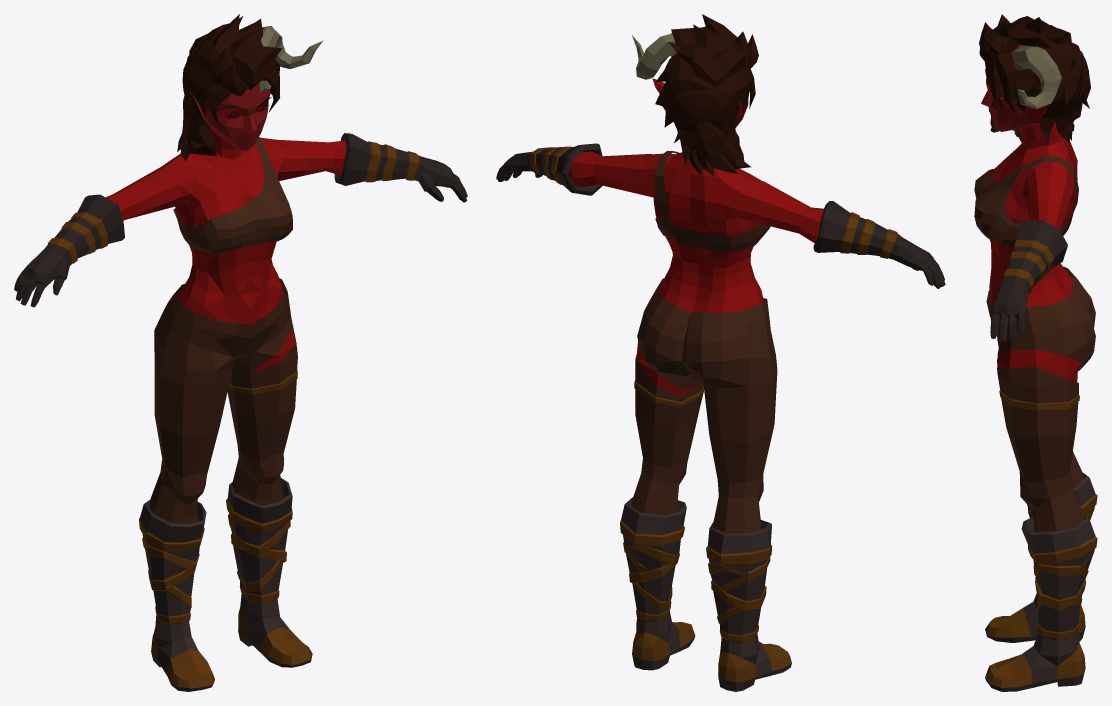
File: Character.glb
3 views of the same model, side by side, from view 1: azimuth 30°, elevation 25°; view 2: azimuth 150°, elevation 25°; view 3: azimuth 270°, elevation 25° (orthographic).
Visible parts, largest first — view 1: Panty.002, Boots, Body, Gloves, Hair.002, Shirt.001, arm.001, face.002, Horn.001; view 2: Panty.002, Boots, Body, Hair.002, Gloves, arm.001, Shirt.001, Horn.001; view 3: Panty.002, Boots, Body, Hair.002, Gloves, Shirt.001, Horn.001, arm.001, face.002.
Part boxes in pixels (bbox=[...]): Panty.002: bbox=[149, 278, 297, 523]; Boots: bbox=[139, 478, 312, 691]; Body: bbox=[161, 110, 295, 377]; Gloves: bbox=[14, 133, 467, 307]; Hair.002: bbox=[177, 14, 282, 161]; Shirt.001: bbox=[173, 137, 292, 254]; arm.001: bbox=[106, 140, 346, 220]; face.002: bbox=[190, 82, 270, 151]; Horn.001: bbox=[259, 26, 323, 92]; Panty.002: bbox=[631, 278, 777, 533]; Boots: bbox=[620, 497, 791, 691]; Body: bbox=[636, 152, 763, 396]; Hair.002: bbox=[655, 14, 758, 176]; Gloves: bbox=[496, 143, 945, 288]; arm.001: bbox=[568, 151, 823, 243]; Shirt.001: bbox=[654, 150, 770, 251]; Horn.001: bbox=[632, 33, 676, 79]; Panty.002: bbox=[986, 266, 1095, 531]; Boots: bbox=[985, 472, 1097, 691]; Body: bbox=[989, 121, 1082, 382]; Hair.002: bbox=[979, 14, 1090, 145]; Gloves: bbox=[990, 116, 1067, 341]; Shirt.001: bbox=[974, 156, 1078, 246]; Horn.001: bbox=[985, 45, 1061, 108]; arm.001: bbox=[1026, 180, 1072, 230]; face.002: bbox=[981, 44, 1039, 131].
Size of the model in its own units: 2.15 by 2.97 by 0.5106.
9 materials, 1 textured.
